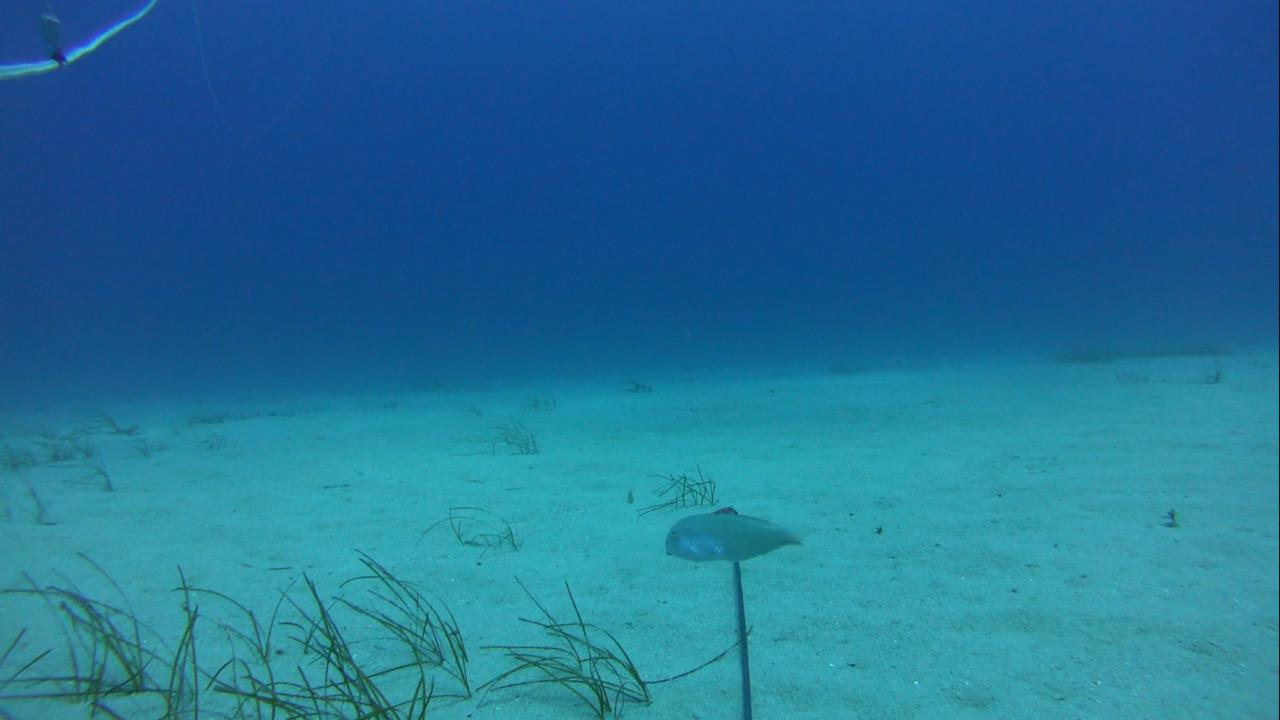raor: (655, 503, 816, 566)
